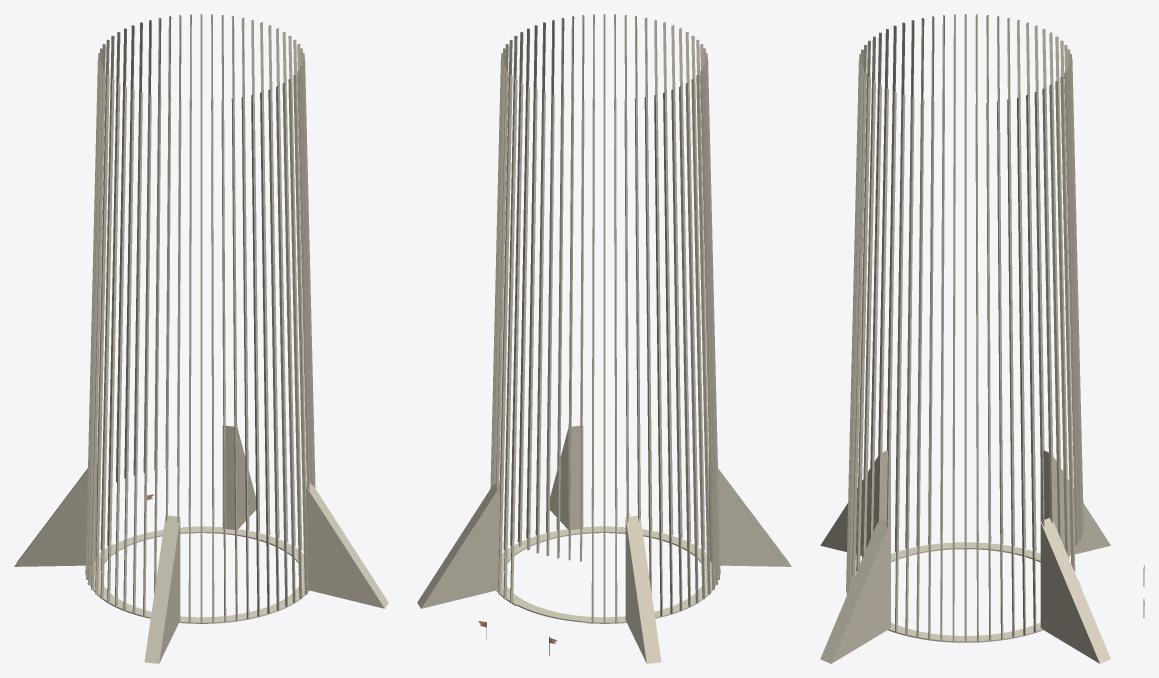
The model's file is base_detail.glb.
3 views of the same model, side by side, from view 1: azimuth 30°, elevation 25°; view 2: azimuth 150°, elevation 25°; view 3: azimuth 270°, elevation 25° (orthographic). The views are drawn at different scales.
Parts seen in each view (by area): view 1: base_detail; view 2: base_detail; view 3: base_detail.
Part boxes in pixels (x1=…): base_detail: x1=14, y1=14, x2=388, y2=663; base_detail: x1=417, y1=14, x2=791, y2=663; base_detail: x1=820, y1=14, x2=1144, y2=663.
Size of the model in its own units: 148 by 306 by 166.
